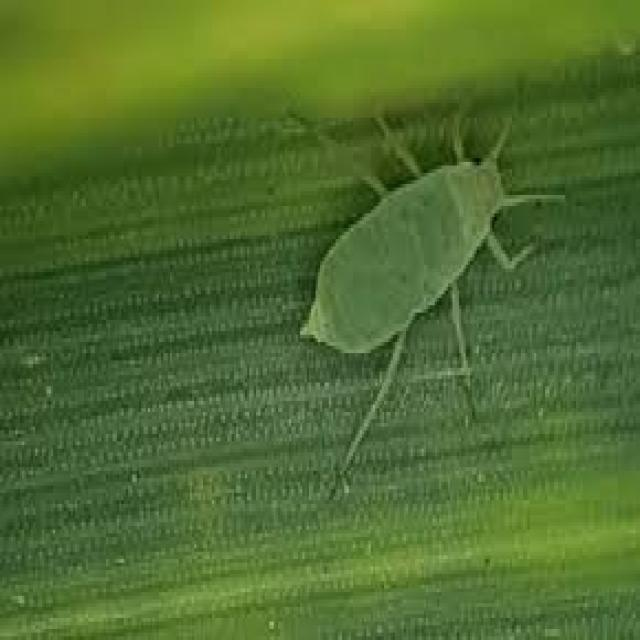Aphids: (259, 71, 572, 492)
